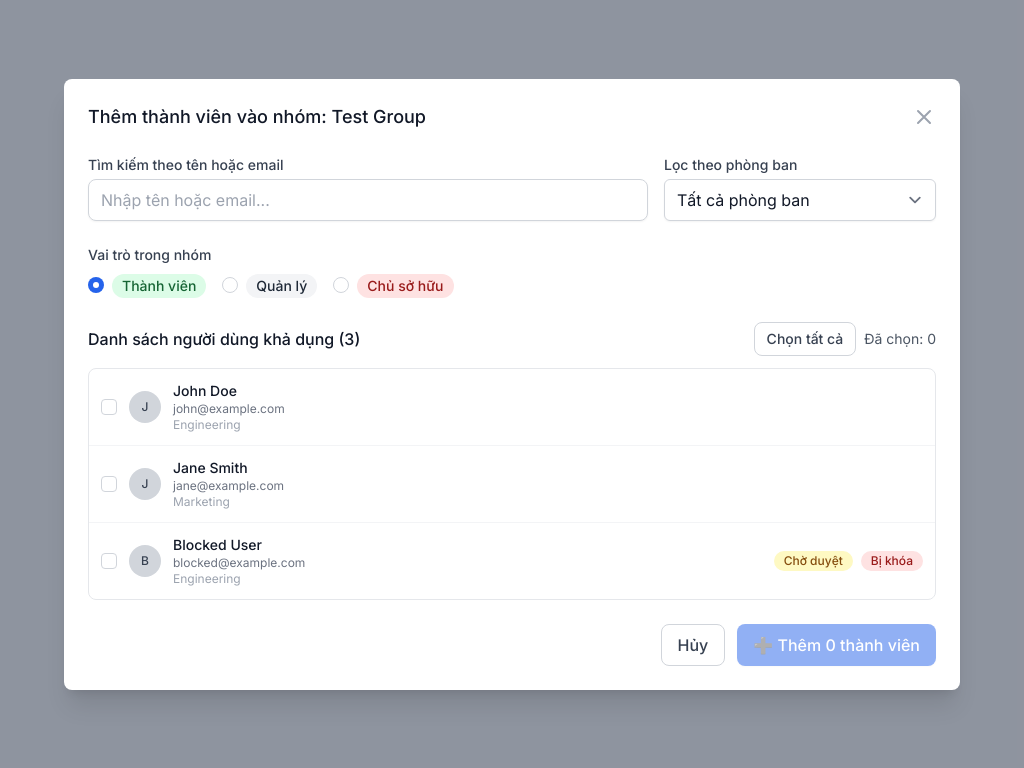
Test case: UserSearchModal › User Selection › should allow selecting users
Expected: the text "John Doe" is shown, [173,382,237,398]
Click the checkbox in the row of "john@example.com" at (109, 406), box [101,398,117,414]
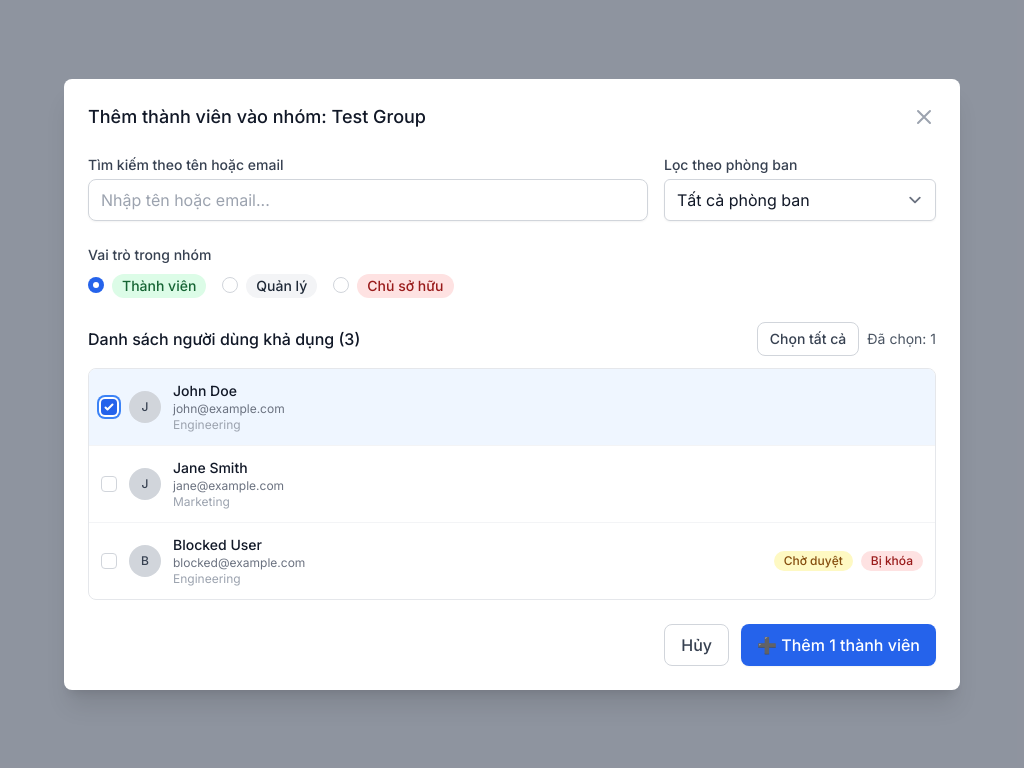
Expected: the text "Đã chọn: 1" is shown, [867,330,936,346]
